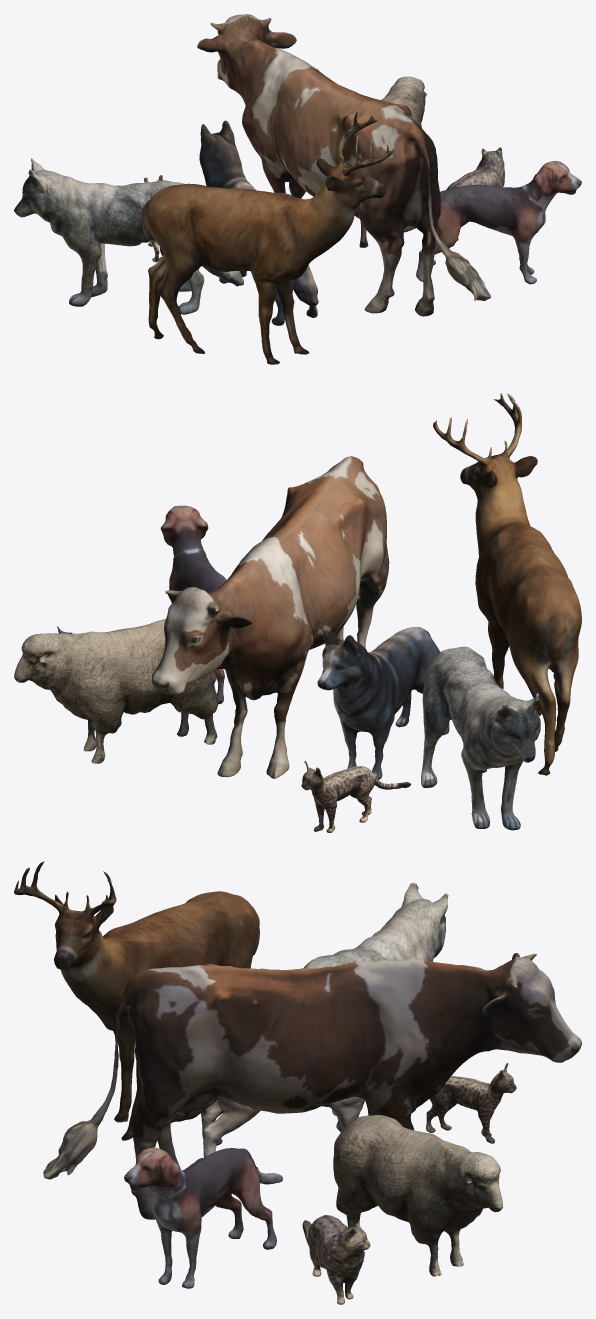
Rendered from animals_pack.glb.
3 views of the same model, one above another, from view 1: azimuth 30°, elevation 25°; view 2: azimuth 150°, elevation 25°; view 3: azimuth 270°, elevation 25° (orthographic). The views are drawn at different scales.
Visible parts, largest first — view 1: Caw, Deer, Wolf2, Dog, Wolf, Sheep, Cat; view 2: Caw, Deer, Sheep, Wolf2, Wolf, Dog, Cat 2; view 3: Caw, Deer, Sheep, Dog, Wolf2, Cat, Cat 2, Wolf.
Part boxes in pixels (left/top/right/bottom): Caw: left=197, top=14, right=491, bottom=316; Deer: left=141, top=112, right=393, bottom=364; Wolf2: left=14, top=158, right=243, bottom=314; Dog: left=403, top=161, right=581, bottom=284; Wolf: left=199, top=120, right=318, bottom=325; Sheep: left=354, top=76, right=427, bottom=247; Cat: left=446, top=147, right=504, bottom=240; Caw: left=152, top=456, right=389, bottom=778; Deer: left=433, top=393, right=581, bottom=775; Sheep: left=14, top=619, right=218, bottom=763; Wolf2: left=421, top=646, right=540, bottom=830; Wolf: left=317, top=627, right=449, bottom=779; Dog: left=160, top=505, right=260, bottom=704; Cat 2: left=301, top=761, right=410, bottom=832; Caw: left=43, top=953, right=581, bottom=1219; Deer: left=14, top=861, right=259, bottom=1140; Sheep: left=333, top=1115, right=502, bottom=1276; Dog: left=124, top=1147, right=282, bottom=1288; Wolf2: left=303, top=882, right=448, bottom=1115; Cat: left=302, top=1215, right=370, bottom=1304; Cat 2: left=426, top=1062, right=516, bottom=1143; Wolf: left=171, top=1096, right=365, bottom=1157.
Size of the model in its own units: 3.28 by 1.66 by 2.93.
Materials: 8 (8 with a texture image).
